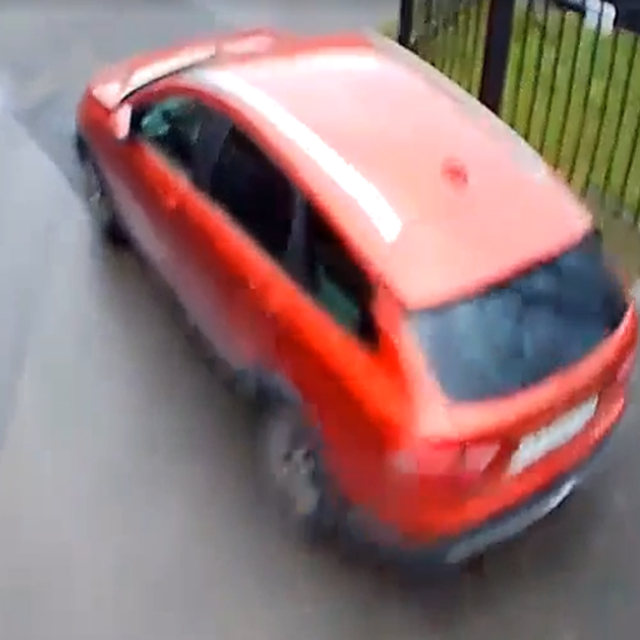car: (76, 29, 638, 576)
